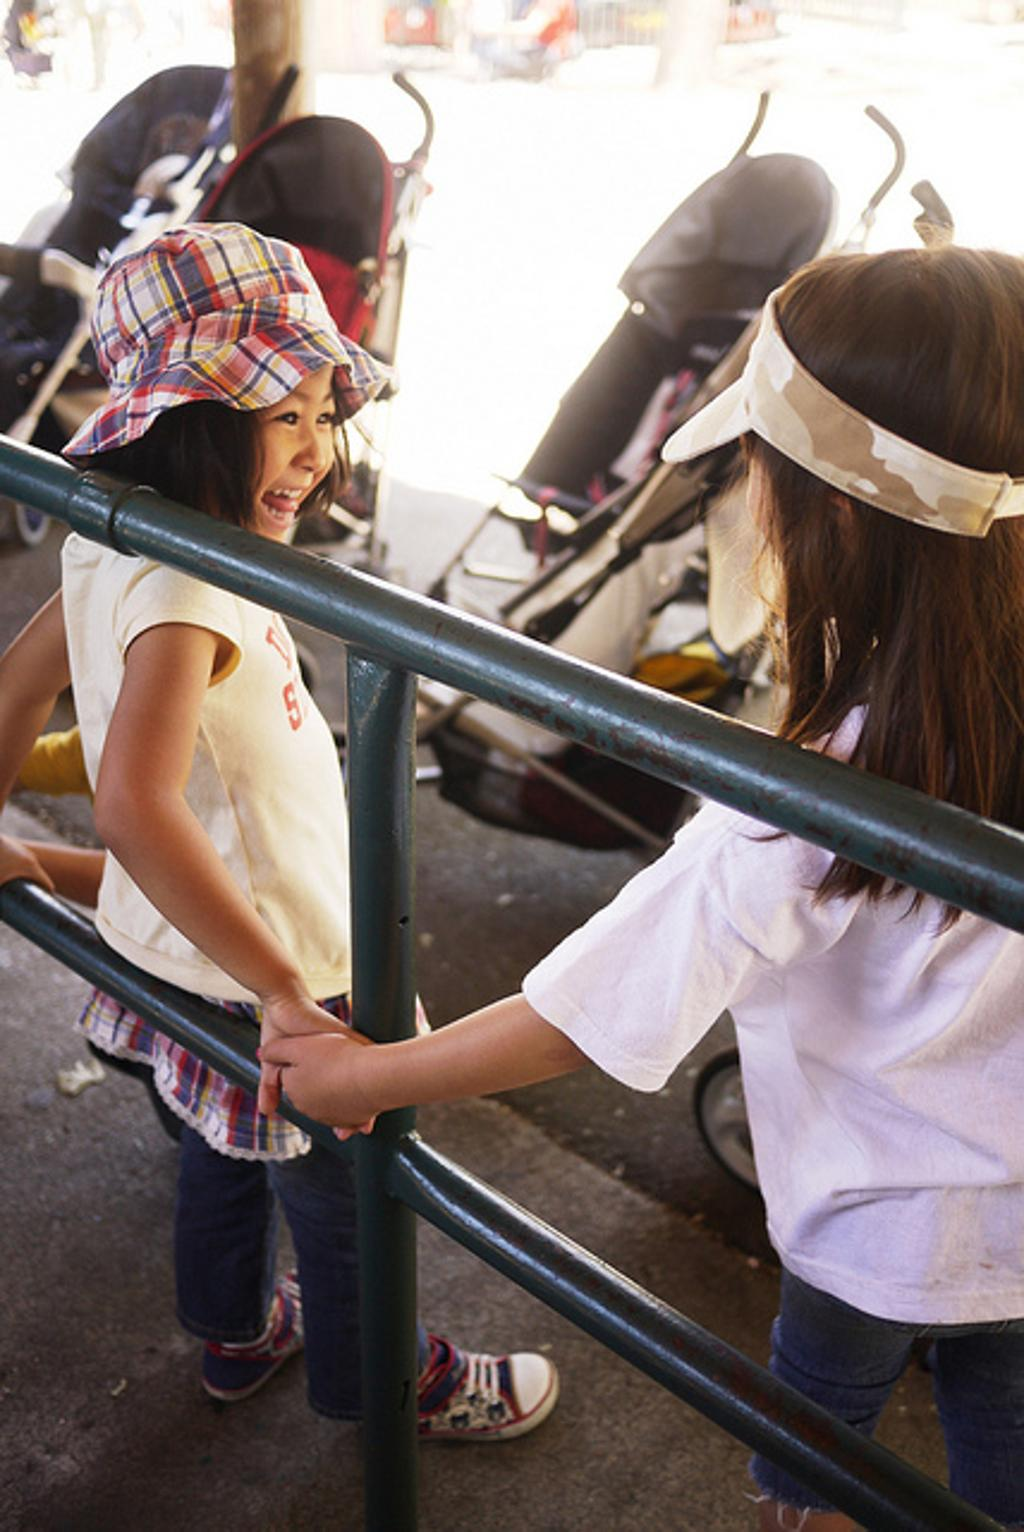face: (210, 320, 339, 554)
